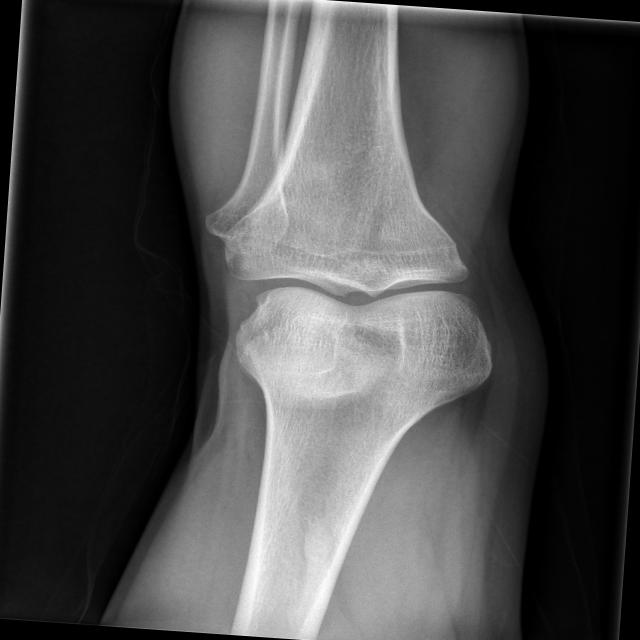Knee: (212, 172, 509, 410)
